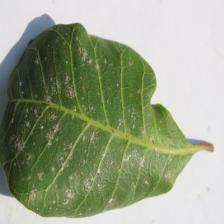red rust: (0, 22, 214, 218)
